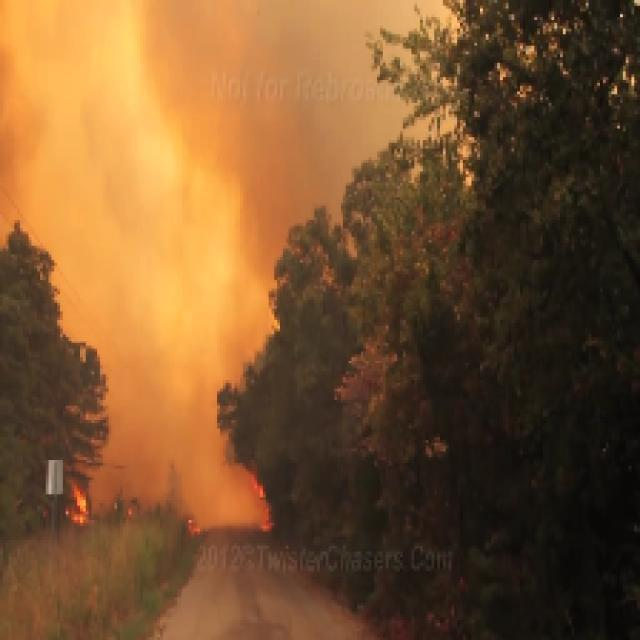Fire: (63, 468, 100, 534)
Smoke: (0, 0, 463, 371)
